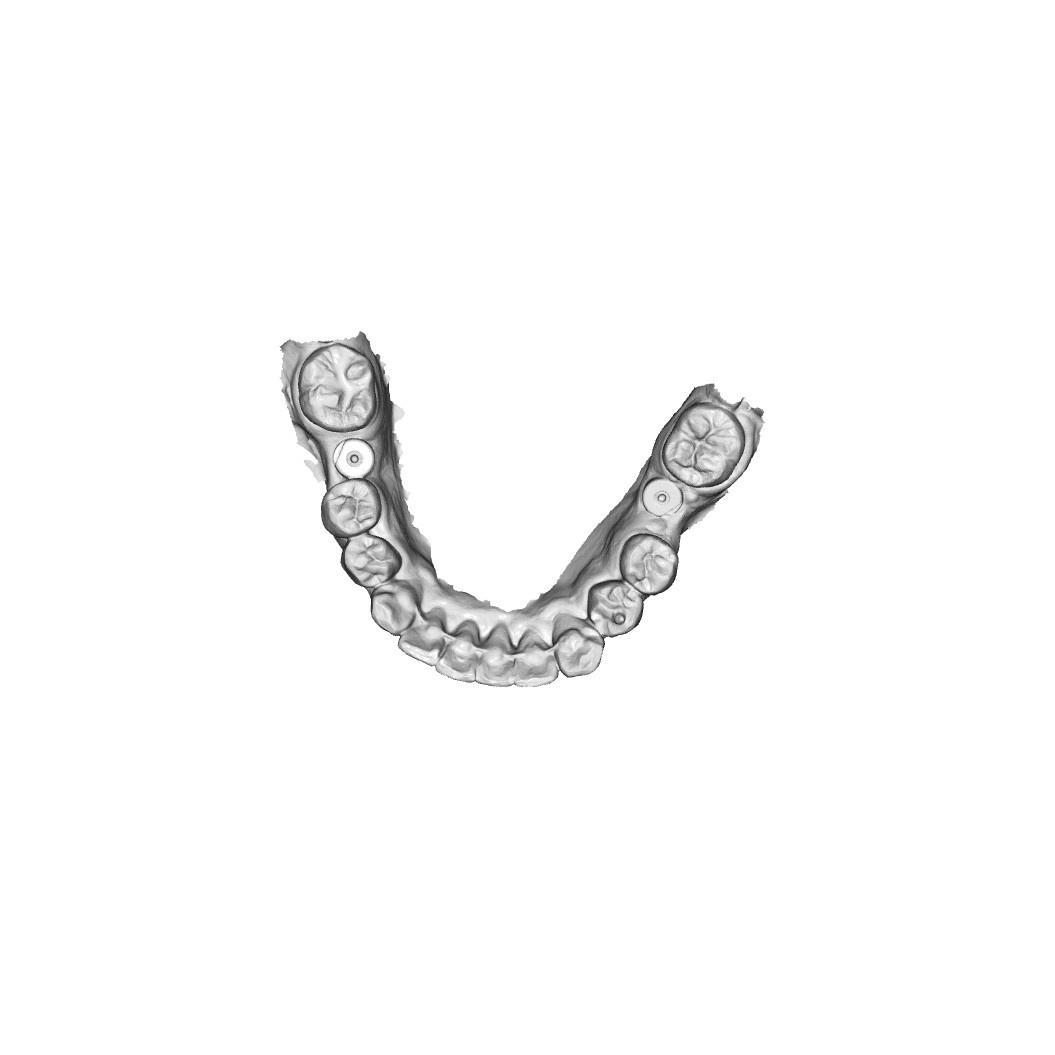canine: (554, 616, 604, 680), (367, 583, 421, 637)
implant: (638, 478, 687, 518), (334, 439, 377, 479)
incisor: (436, 622, 482, 685), (514, 630, 558, 690), (398, 612, 446, 666), (474, 627, 516, 688)
molar: (661, 401, 749, 489), (295, 345, 380, 435)
premolar: (321, 481, 386, 540), (617, 531, 677, 594), (338, 532, 402, 591), (586, 578, 644, 640)
